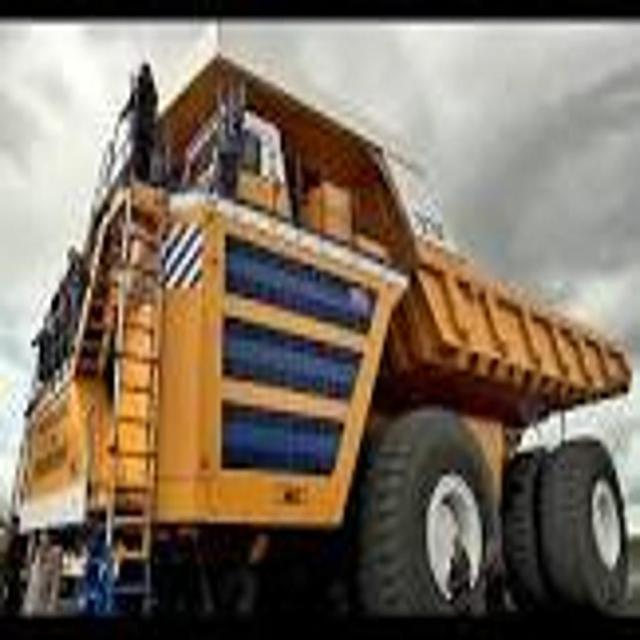dump_truck: (6, 45, 631, 640)
